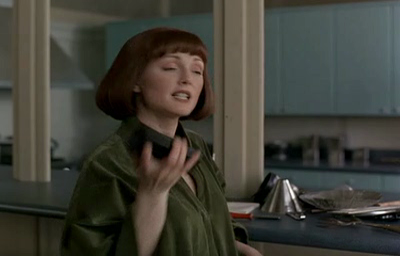face: (153, 54, 205, 115)
mcu: (1, 1, 400, 256)
person: (57, 25, 263, 256)
